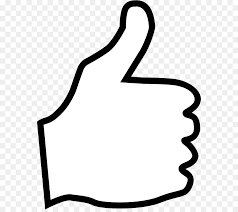thumbs_up: (28, 0, 202, 205)
